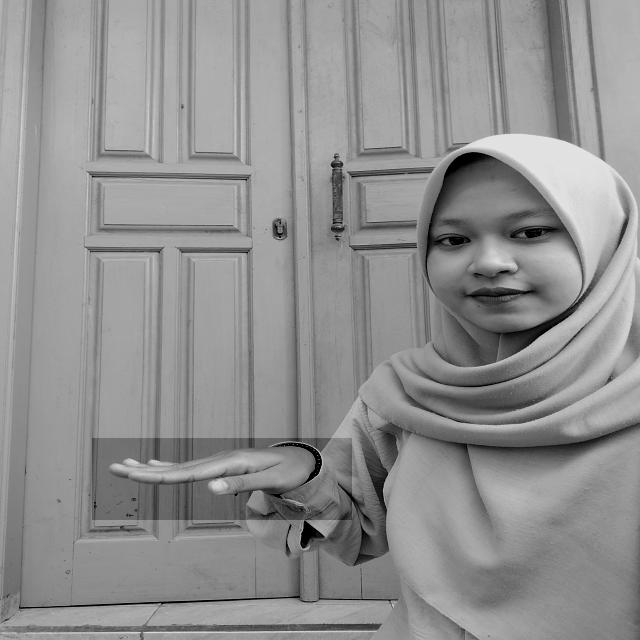adik: (92, 438, 352, 520)
